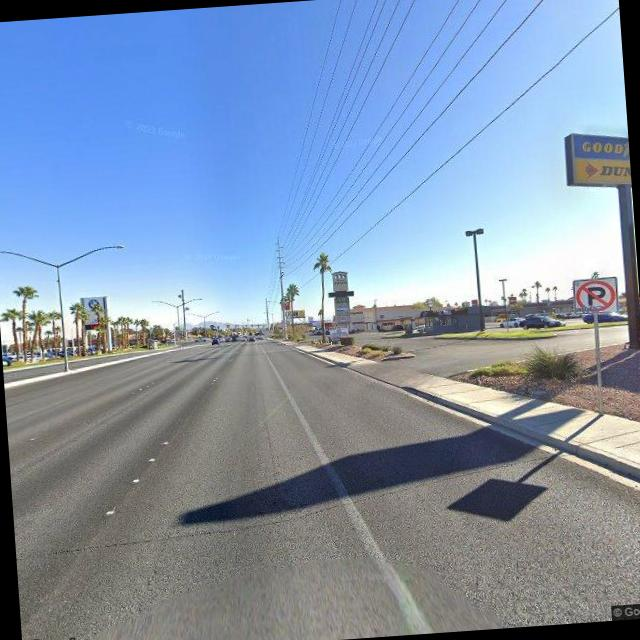pothole: (258, 412, 280, 473)
